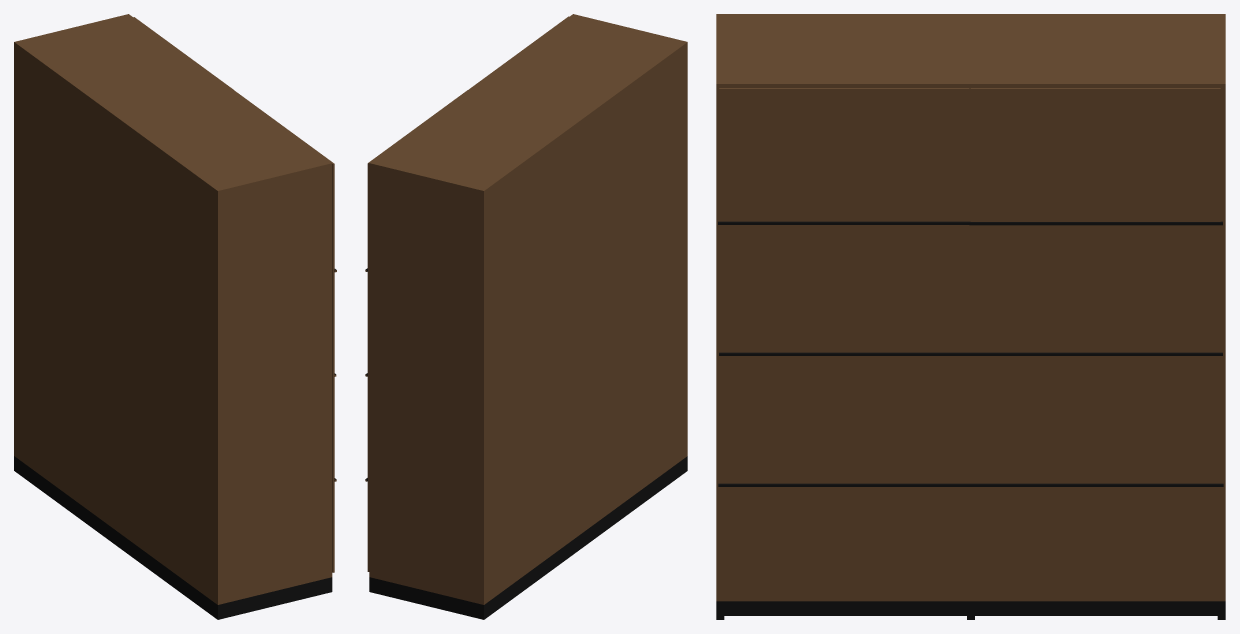
File: closet.obj
The picture shows the model from 3 angles, left to right: view 1: azimuth 30°, elevation 25°; view 2: azimuth 150°, elevation 25°; view 3: azimuth 270°, elevation 25°; orthographic projection. The views are drawn at different scales.
Visible parts, largest first — view 1: Box11; view 2: Box11; view 3: Box11.
Part boxes in pixels (x1,y1,x2,y2): Box11: (14, 14, 336, 619); Box11: (365, 14, 687, 619); Box11: (716, 14, 1225, 619).
Bounding box in the file's own units: 67.92 × 232 × 200.
